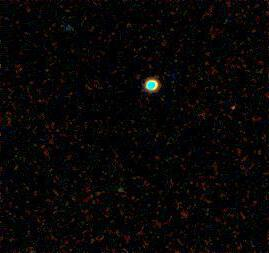star: (219, 93, 249, 123)
